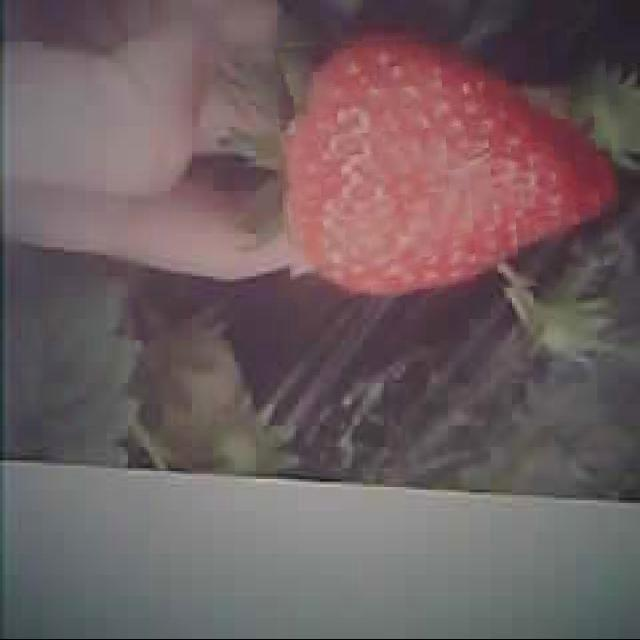strawberry: (279, 30, 617, 298)
